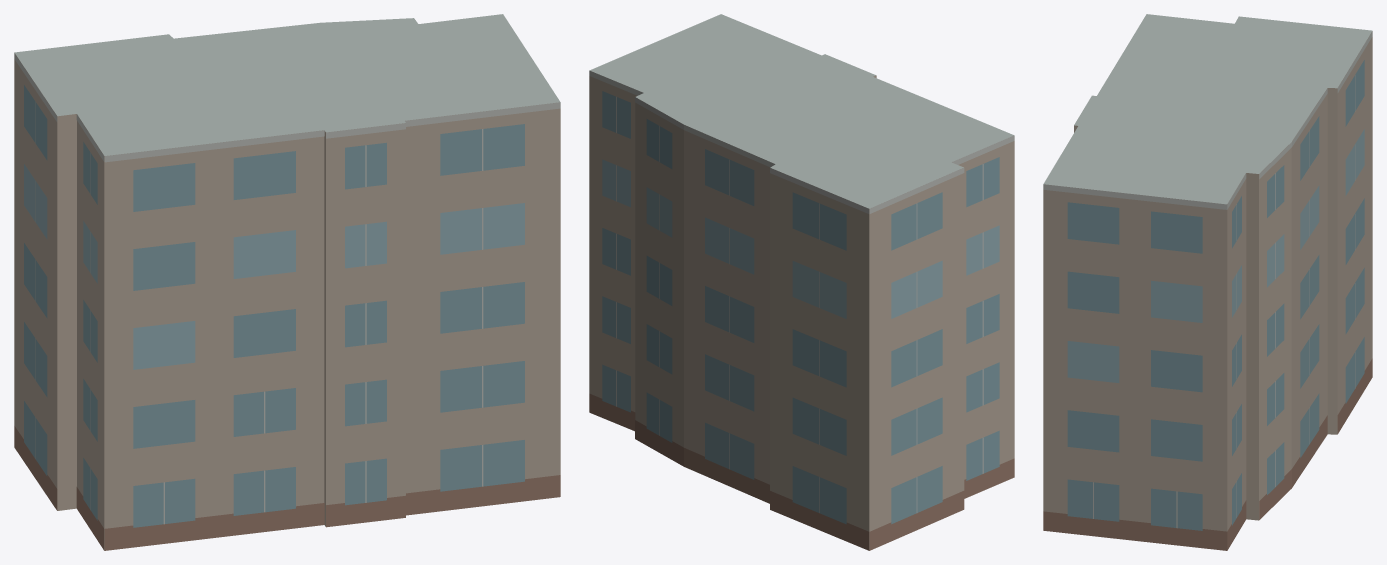
Rendered from survey-upis-33022929.glb.
3 renders of one model, left to right at view 1: azimuth 30°, elevation 25°; view 2: azimuth 150°, elevation 25°; view 3: azimuth 270°, elevation 25°, orthographic. The views are drawn at different scales.
Parts seen in each view (by area): view 1: survey-upis-33022929.tmp; view 2: survey-upis-33022929.tmp; view 3: survey-upis-33022929.tmp.
Part boxes in pixels (<box>): survey-upis-33022929.tmp: <box>14,14,560,550</box>; survey-upis-33022929.tmp: <box>589,14,1014,550</box>; survey-upis-33022929.tmp: <box>1043,14,1372,550</box>.
Bounding box in the file's own units: 17.98 × 15.25 × 13.15.
